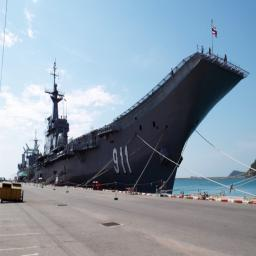Portanaves: (16, 9, 253, 202)
